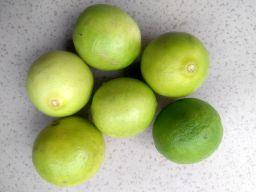lemon: (9, 113, 118, 188), (136, 20, 223, 99), (147, 91, 234, 170), (16, 41, 98, 123), (60, 0, 149, 74), (90, 68, 158, 137)
